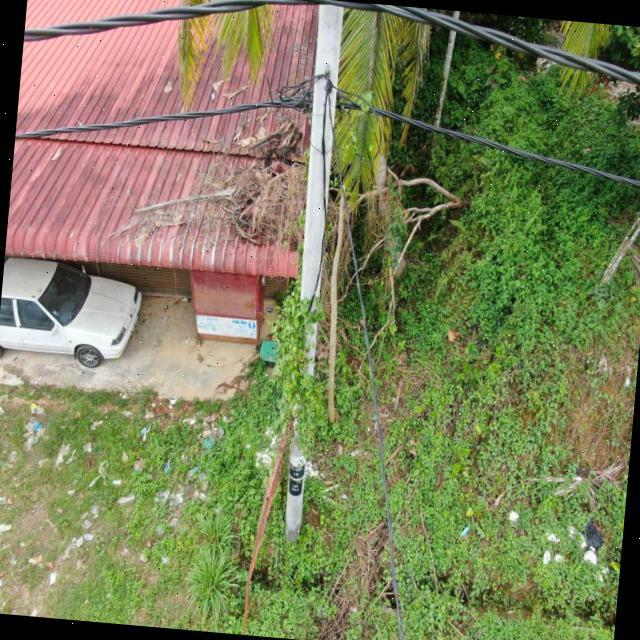critical vegetation: (258, 233, 338, 464)
